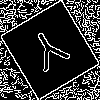Y: (25, 25, 77, 82)
